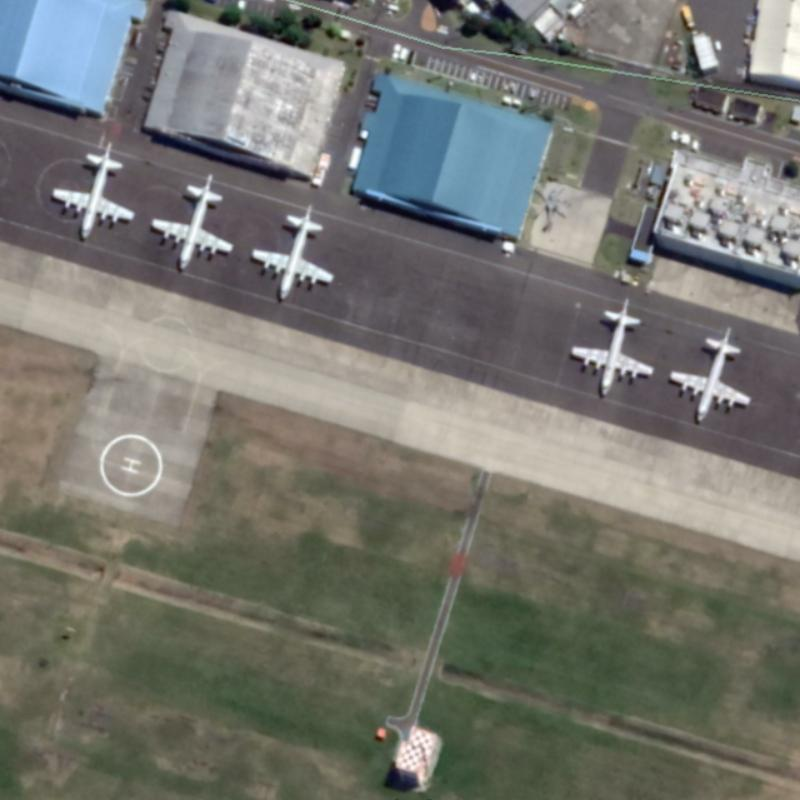A9: (40, 133, 142, 245), (560, 288, 656, 397), (664, 316, 757, 428), (243, 199, 340, 305), (143, 164, 236, 273)
